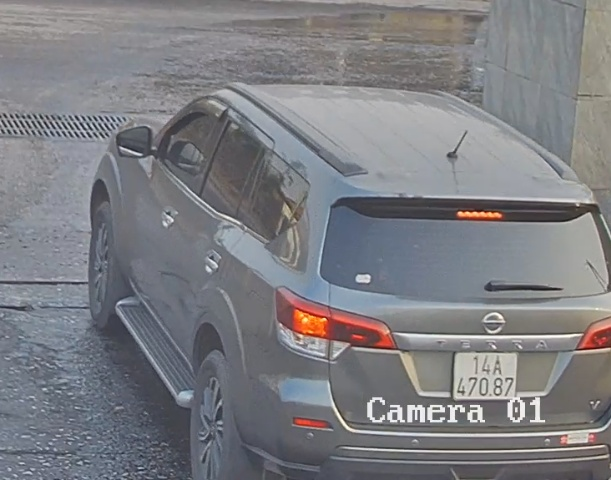vehicle plate: (450, 345, 517, 399)
